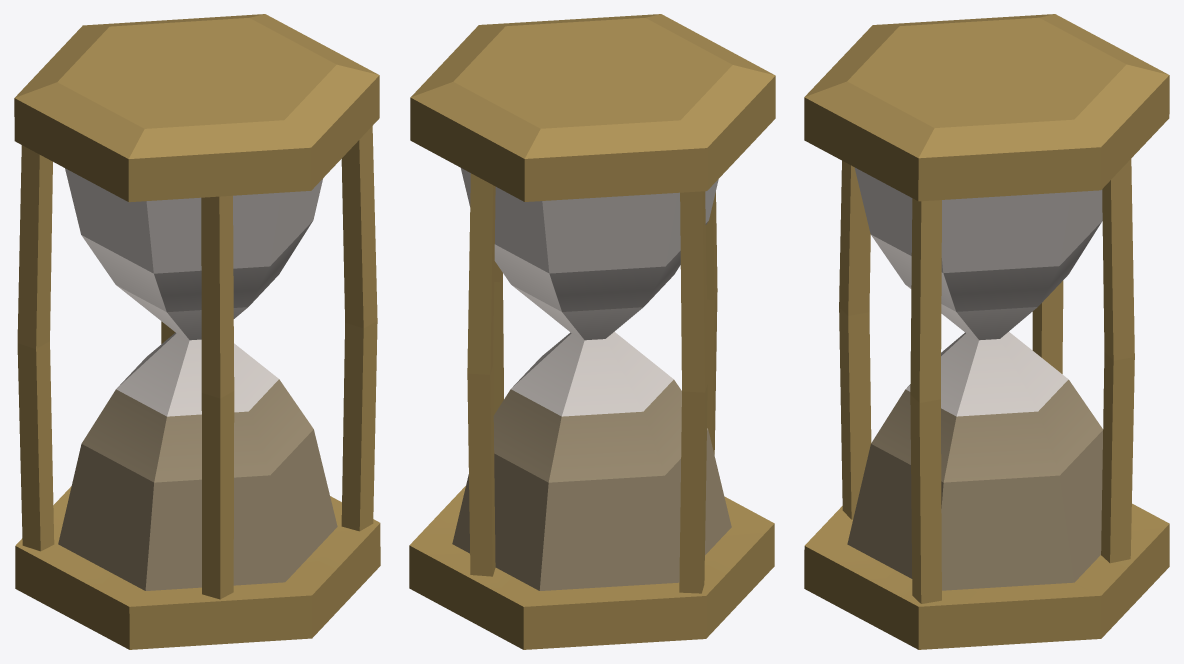
Rendered from trinketHourglass.fbx.
3 renders of one model, left to right at view 1: azimuth 30°, elevation 25°; view 2: azimuth 150°, elevation 25°; view 3: azimuth 270°, elevation 25°, orthographic.
Visible parts, largest first — view 1: trinketHourglass; view 2: trinketHourglass; view 3: trinketHourglass.
Boxes of the visible parts, x1,y1,x2,y2 form: trinketHourglass: (14,14,380,649); trinketHourglass: (409,14,775,649); trinketHourglass: (804,14,1169,649).
Bounding box in the file's own units: 0.7773 × 1.29 × 0.826.
1 material, 1 textured.
